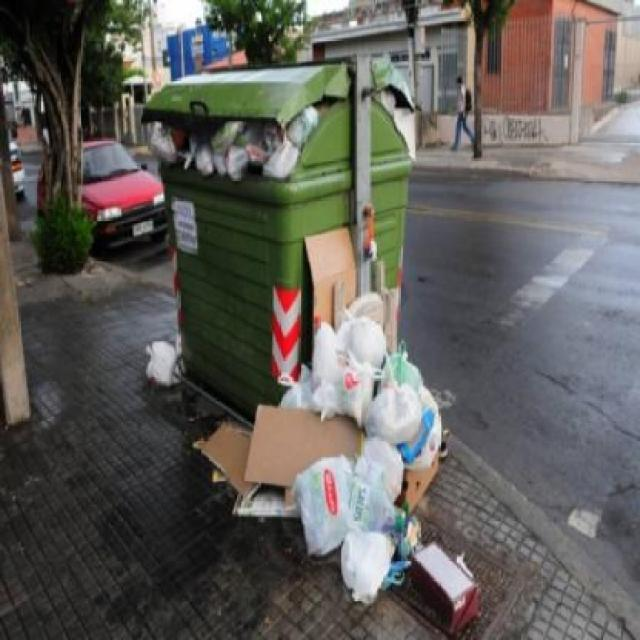garbage: (194, 402, 495, 625), (297, 229, 443, 414), (145, 123, 308, 180), (143, 332, 182, 384)
